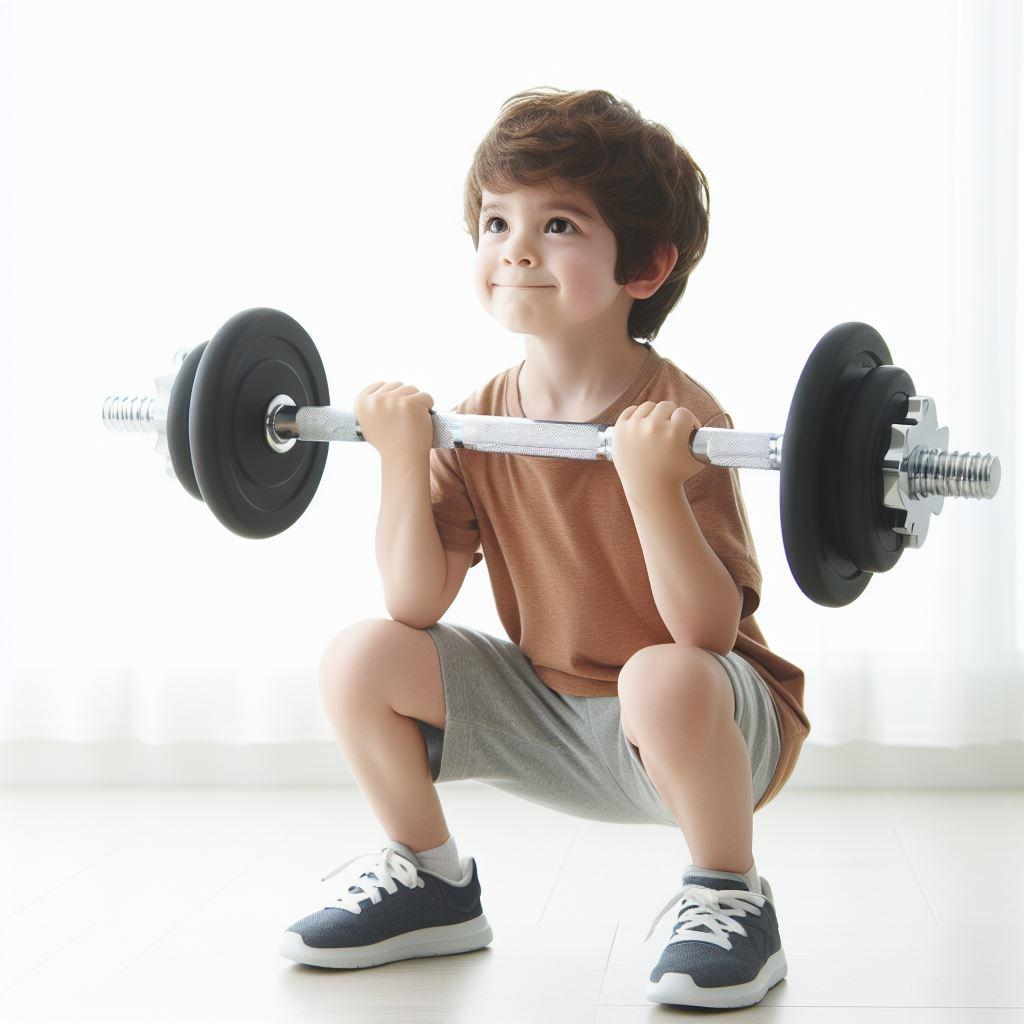Human: (274, 54, 825, 1024)
